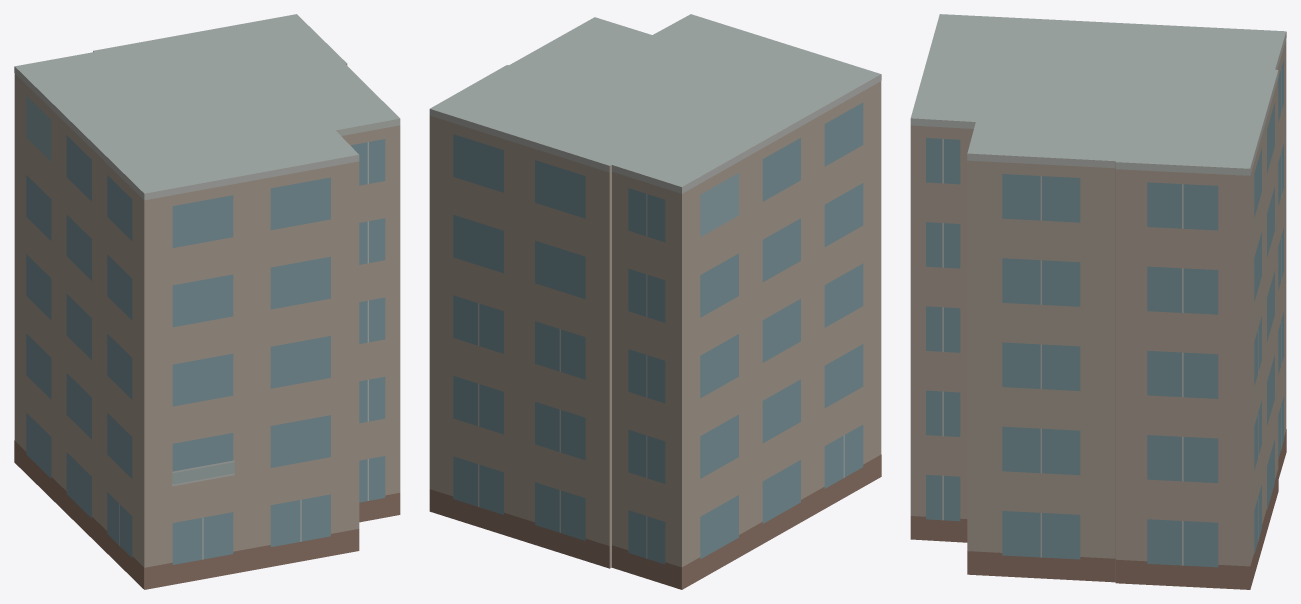
File: survey-upis-32658357.glb
3 renders of one model, left to right at view 1: azimuth 30°, elevation 25°; view 2: azimuth 150°, elevation 25°; view 3: azimuth 270°, elevation 25°, orthographic. The views are drawn at different scales.
Visible parts, largest first — view 1: survey-upis-32658357.tmp; view 2: survey-upis-32658357.tmp; view 3: survey-upis-32658357.tmp.
Boxes of the visible parts, bbox=[...] form: survey-upis-32658357.tmp: bbox=[14, 14, 400, 589]; survey-upis-32658357.tmp: bbox=[429, 14, 881, 589]; survey-upis-32658357.tmp: bbox=[910, 14, 1286, 589].
Bounding box in the file's own units: 11.51 × 14.59 × 11.81.
